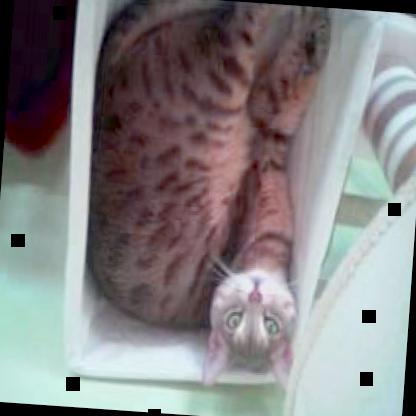cat: (72, 0, 335, 395)
